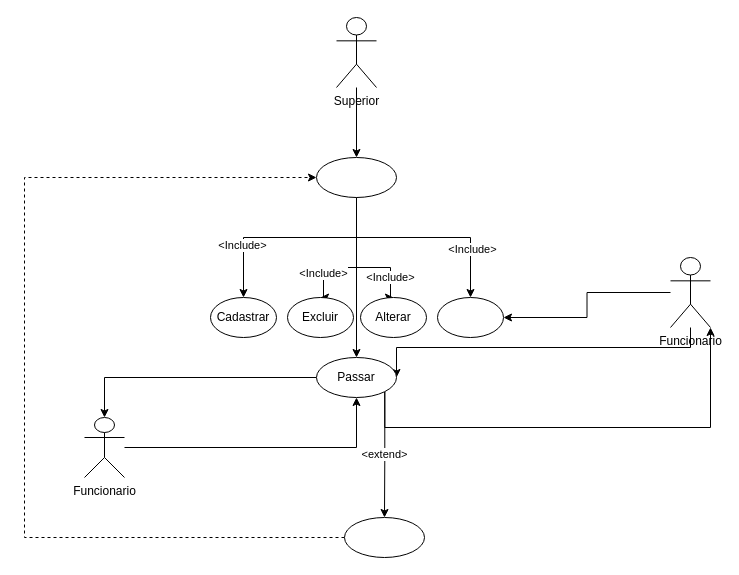
Some shapes in this 739 by 575 pixel diagram are drawn without their labels. The shapes that lost their labels are listed below. From the top down, each one's centre as x and y in pixels, then its label:
the point at 356,177: Tarefa
the point at 470,317: consultar
the point at 384,537: Justificar
